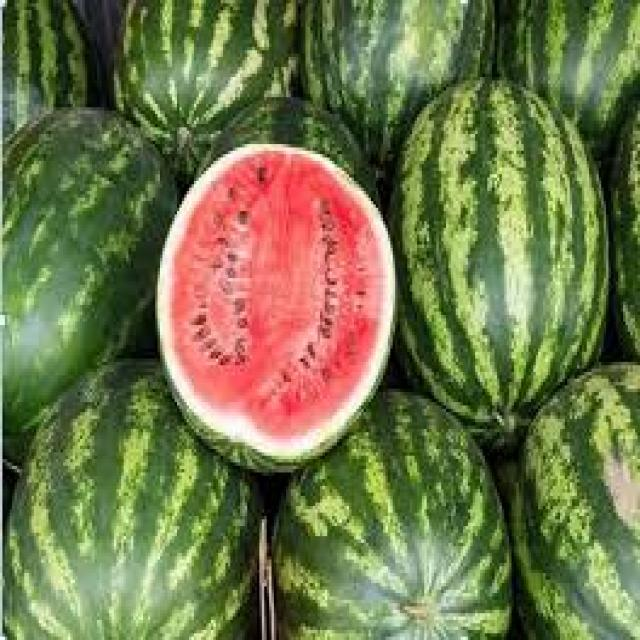organic waste: (386, 67, 606, 459), (153, 138, 395, 480), (2, 355, 257, 637), (0, 97, 179, 465), (264, 382, 509, 637), (512, 358, 638, 636), (109, 0, 295, 157), (298, 0, 495, 144), (492, 0, 638, 154), (192, 94, 378, 204), (0, 0, 107, 141), (608, 77, 638, 372)
